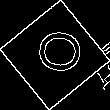O_W: (27, 31, 83, 79)
